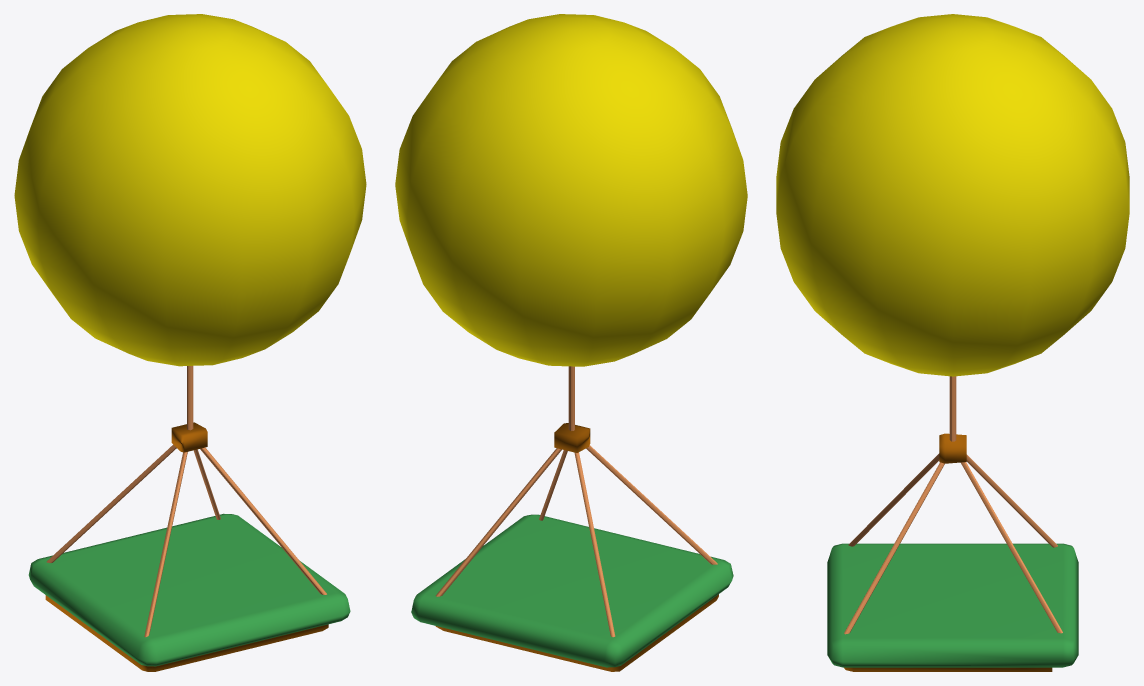
File: PlatformBaloonCombined.fbx
3 views of the same model, side by side, from view 1: azimuth 30°, elevation 25°; view 2: azimuth 150°, elevation 25°; view 3: azimuth 270°, elevation 25° (orthographic). The views are drawn at different scales.
Visible parts, largest first — view 1: FlyingPlatform12; view 2: FlyingPlatform12; view 3: FlyingPlatform12.
Boxes of the visible parts, box(x1,y1,x2,y2) form: FlyingPlatform12: box(14, 14, 366, 671); FlyingPlatform12: box(395, 14, 747, 671); FlyingPlatform12: box(776, 14, 1129, 671).
Bounding box in the file's own units: 4.73 × 8.64 × 4.62.
